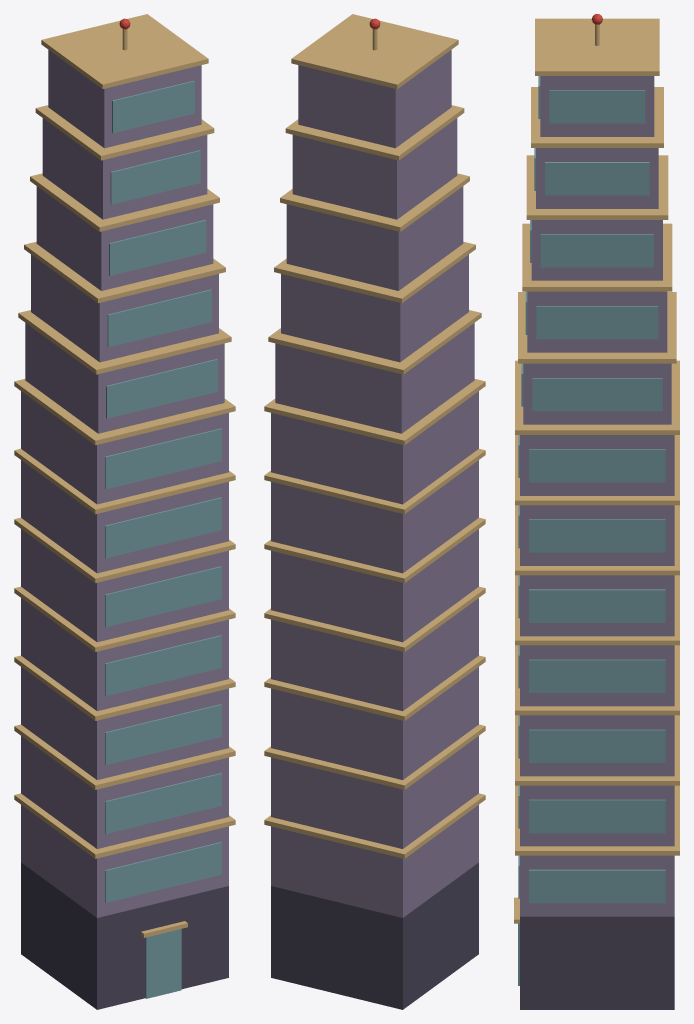
3 views of the same model, side by side, from view 1: azimuth 30°, elevation 25°; view 2: azimuth 150°, elevation 25°; view 3: azimuth 270°, elevation 25° (orthographic).
Parts seen in each view (by area): view 1: RC-009 Setback skyline spire batched; view 2: RC-009 Setback skyline spire batched; view 3: RC-009 Setback skyline spire batched.
Part boxes in pixels (x1,y1,x2,y2): RC-009 Setback skyline spire batched: [14, 14, 235, 1009]; RC-009 Setback skyline spire batched: [264, 14, 485, 1009]; RC-009 Setback skyline spire batched: [514, 14, 679, 1009].
Size of the model in its own units: 6.4 by 41.22 by 6.43.
